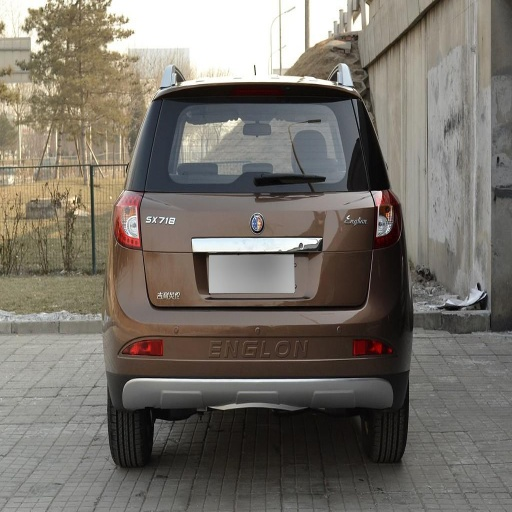back_bumper: (105, 245, 410, 407)
tailgate: (234, 184, 374, 307)
trunk: (119, 195, 277, 334)
